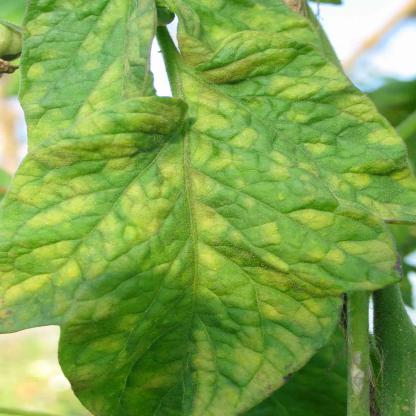Tomato mold leaf: (9, 0, 410, 413)
